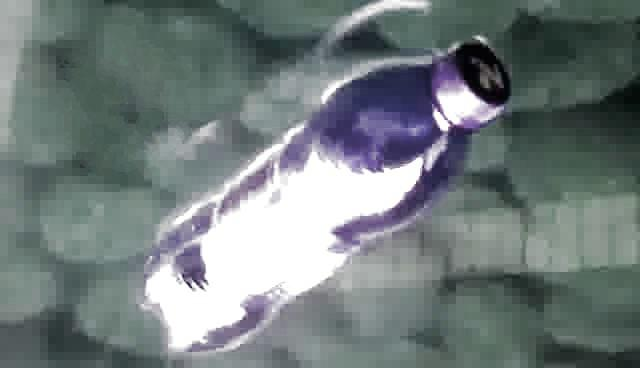Plastic: (123, 32, 517, 363)
